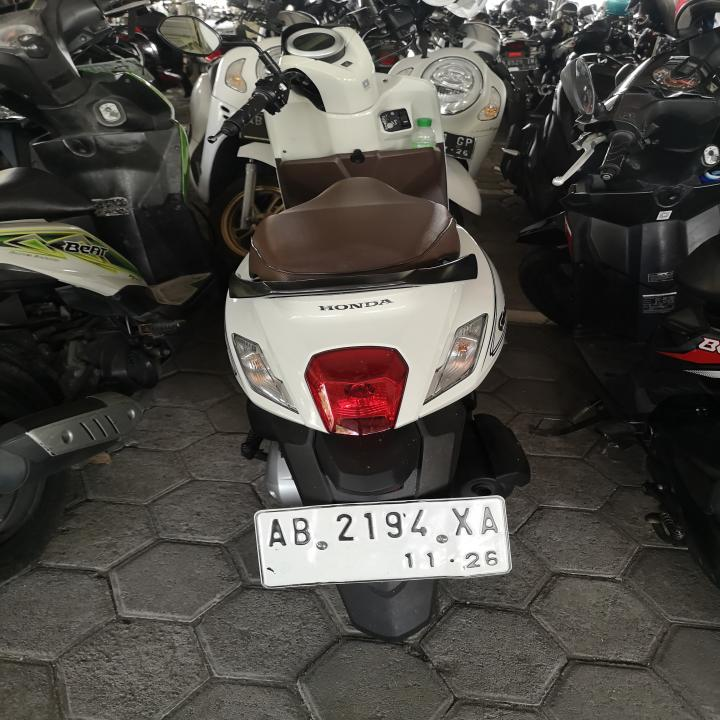plate: (251, 491, 517, 592)
